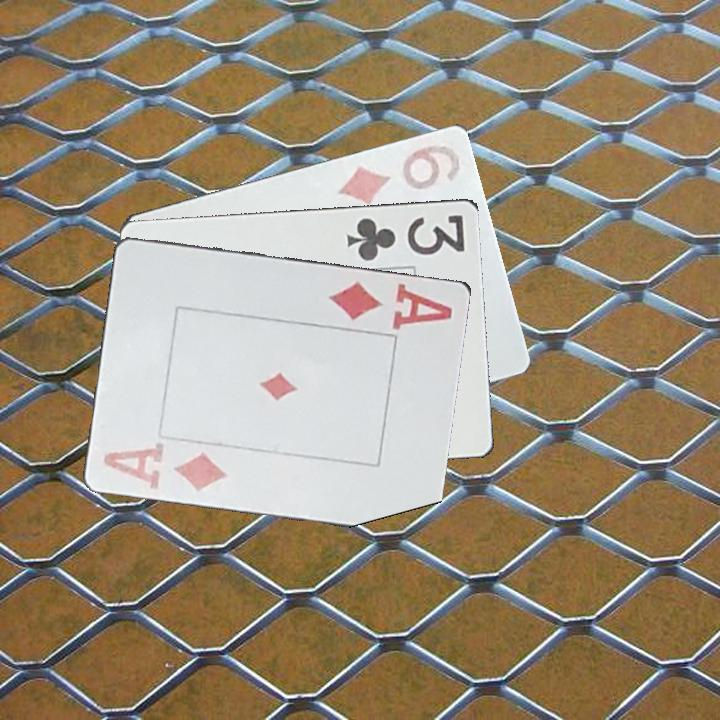3c: (343, 210, 468, 264)
6d: (334, 140, 466, 207)
Ad: (325, 277, 456, 333), (100, 438, 231, 494)
